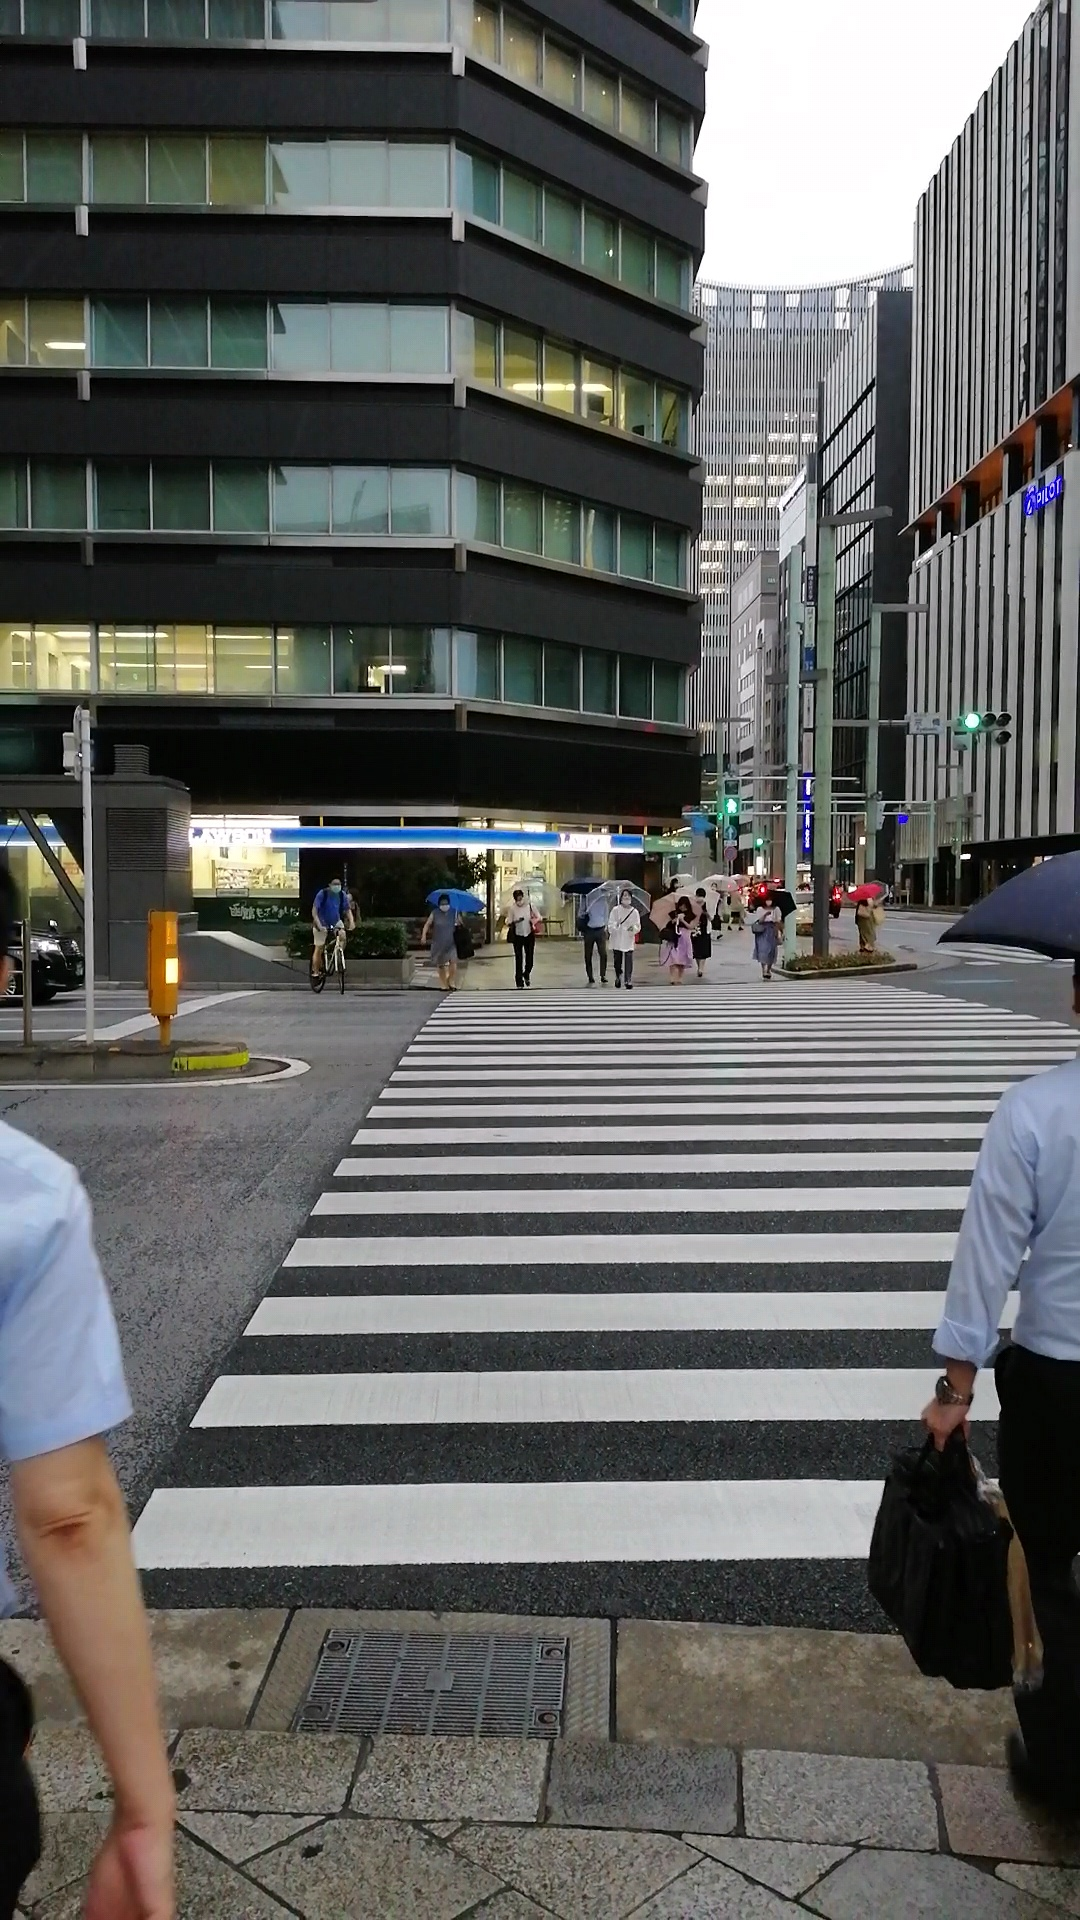green: (720, 777, 741, 818)
